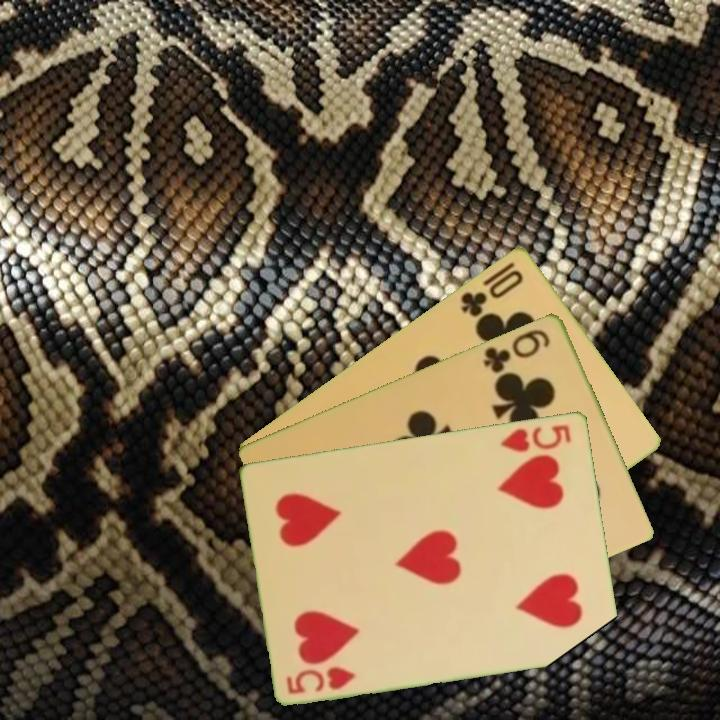10c: (457, 265, 527, 319)
5h: (497, 420, 575, 455), (283, 662, 359, 697)
6c: (480, 325, 553, 376)
